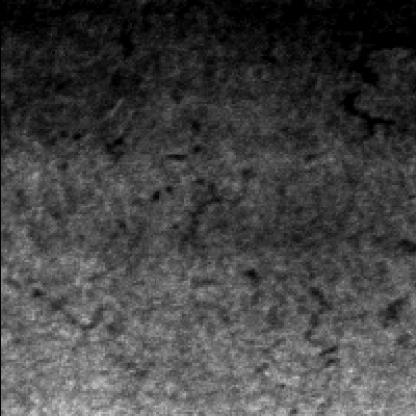crazing: (114, 2, 416, 142), (187, 181, 345, 416)
